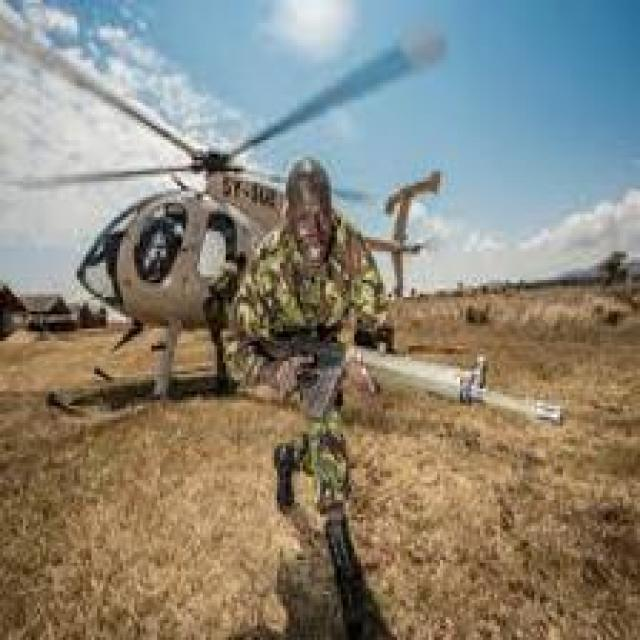Helicopter: (7, 16, 450, 384)
Rifle: (279, 318, 570, 453)
